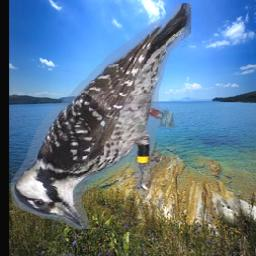Woodpecker: (11, 3, 191, 229)
